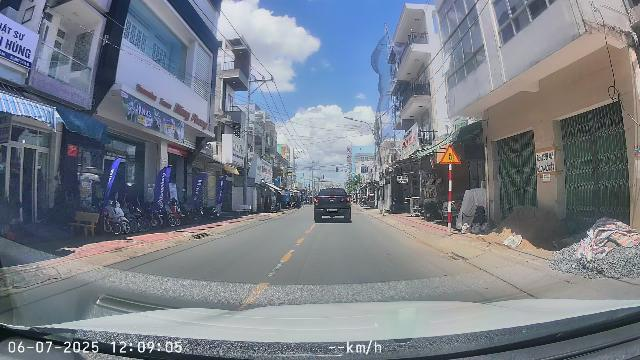209-giao-nhau-co-tin-hieu-den: (440, 144, 462, 164)
